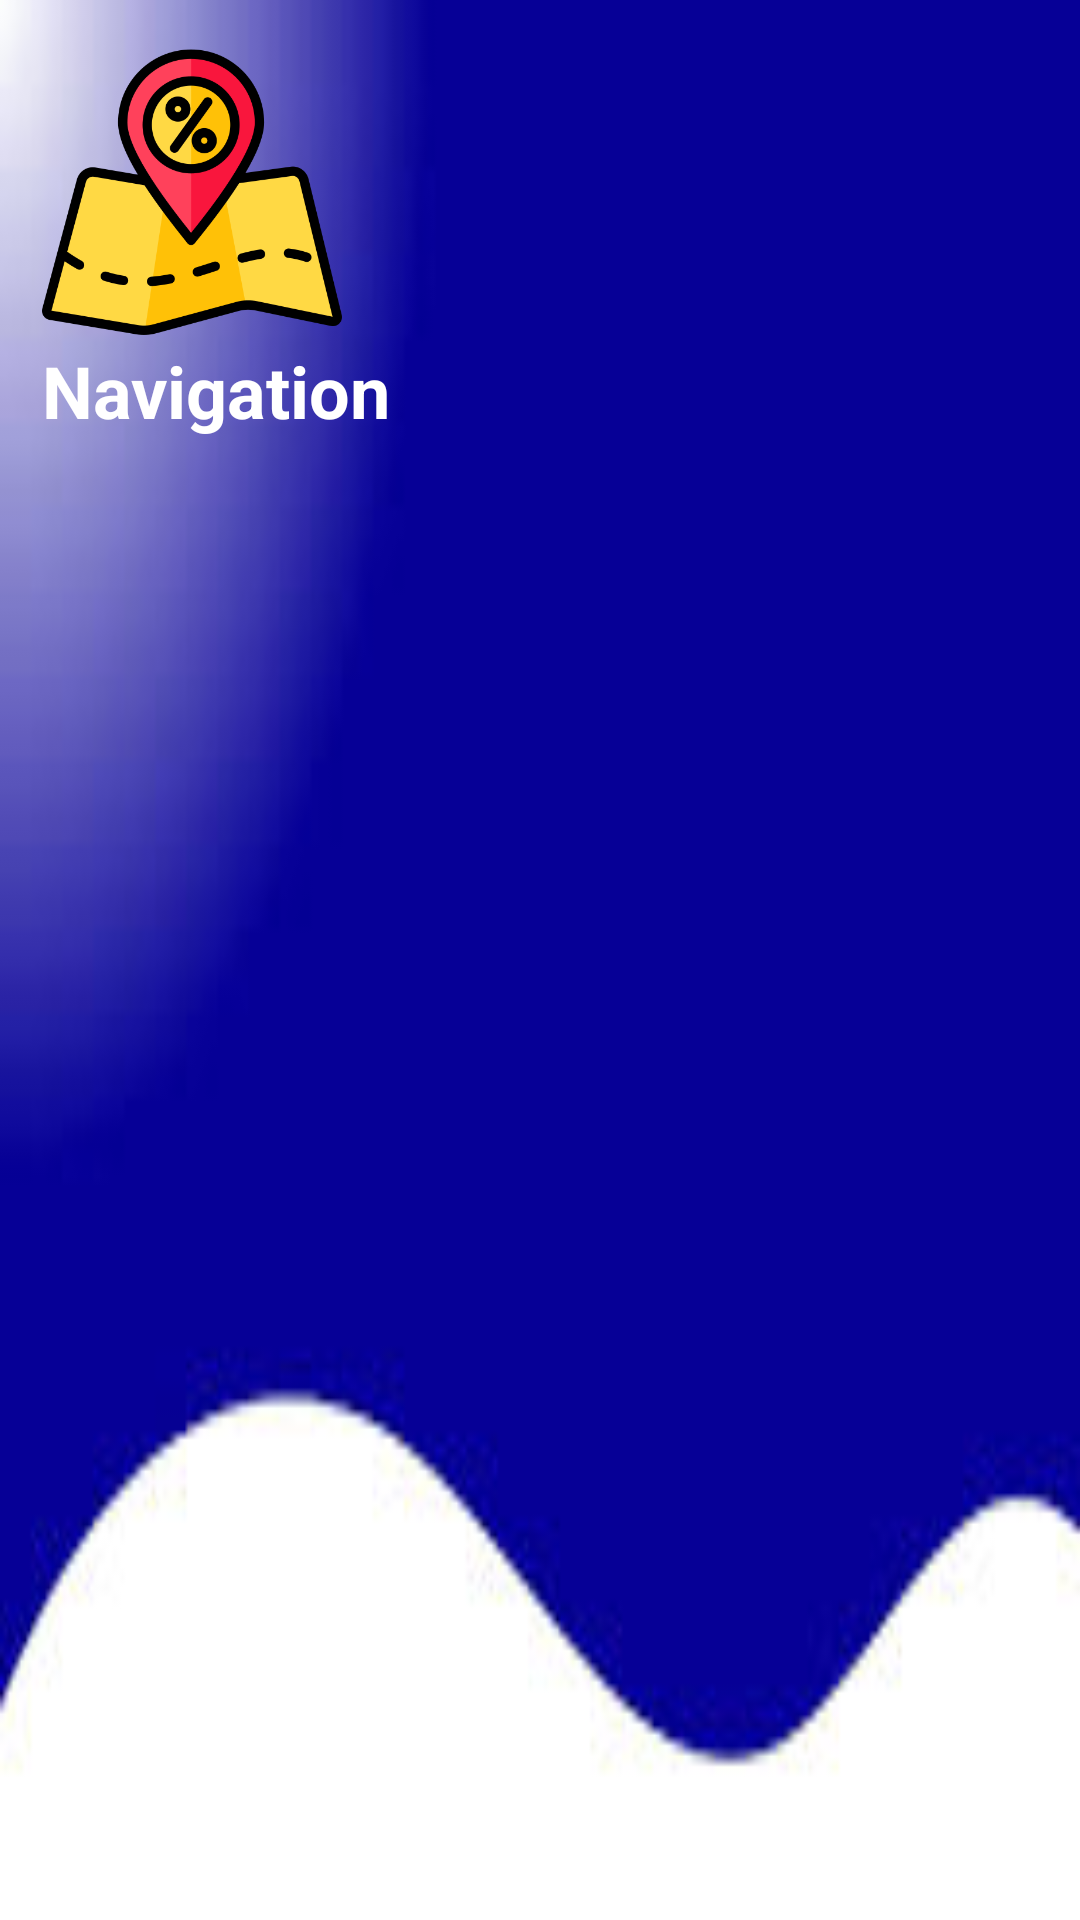

Named icons in this screenshot (1080x1920) and their centers, [x,y]:
Header Image: [192,192]
